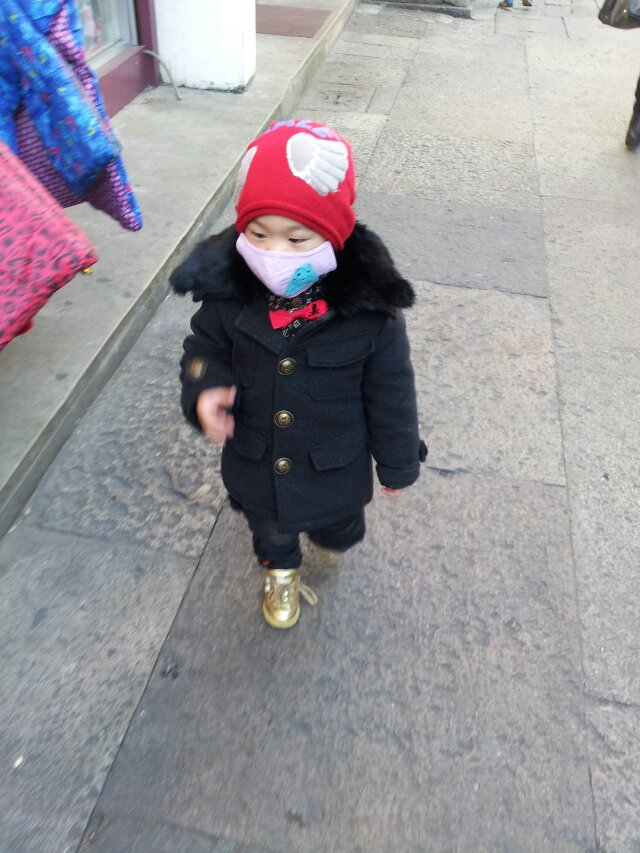face_mask: (243, 194, 326, 300)
